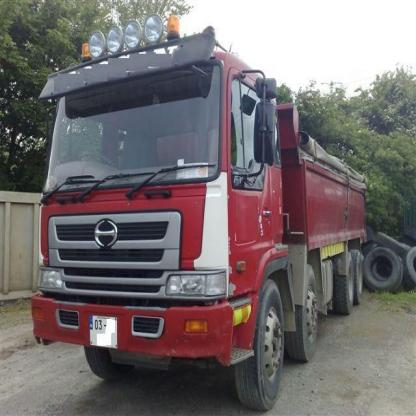dump_truck: (15, 24, 383, 411)
